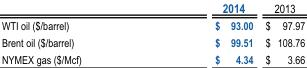table: (1, 0, 304, 65)
table column: (1, 0, 147, 65), (147, 0, 258, 65), (258, 0, 304, 65)
table column header: (1, 0, 304, 16)
table row: (1, 16, 304, 33), (1, 33, 304, 50), (1, 0, 304, 16), (1, 50, 304, 65)
